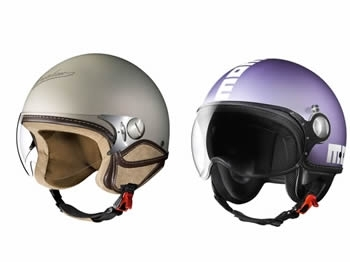helmet: (189, 57, 340, 196), (22, 61, 163, 185)
